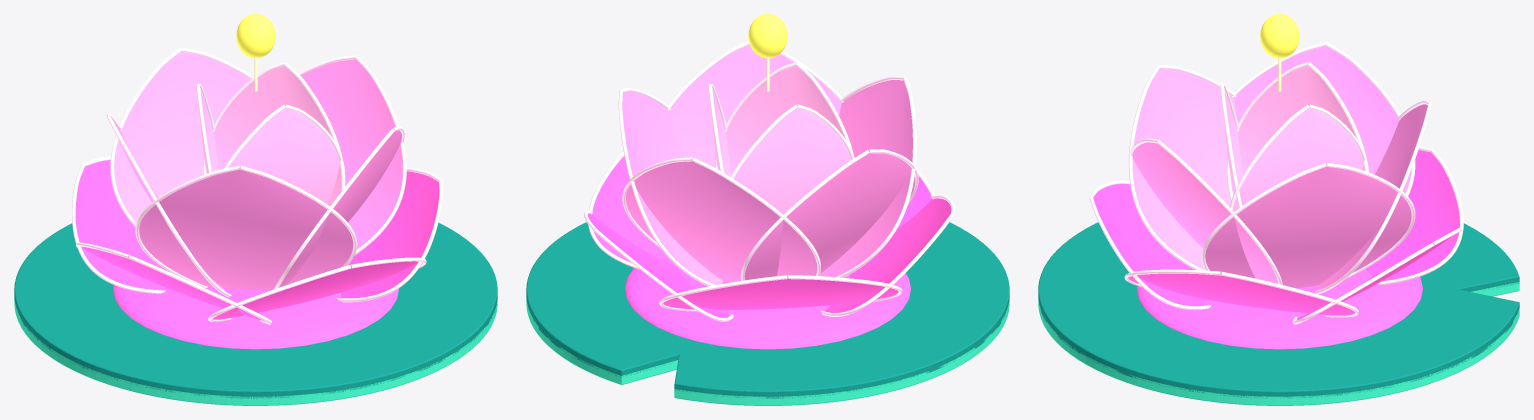
File: ship-24.glb
3 views of the same model, side by side, from view 1: azimuth 30°, elevation 25°; view 2: azimuth 150°, elevation 25°; view 3: azimuth 270°, elevation 25° (orthographic).
Visible parts, largest first — view 1: 연화; view 2: 연화; view 3: 연화.
Boxes of the visible parts, left/top/right/bottom form: 연화: left=14, top=14, right=497, bottom=405; 연화: left=526, top=14, right=1009, bottom=405; 연화: left=1038, top=14, right=1519, bottom=405.
Bounding box in the file's own units: 27 × 18.08 × 26.89.
